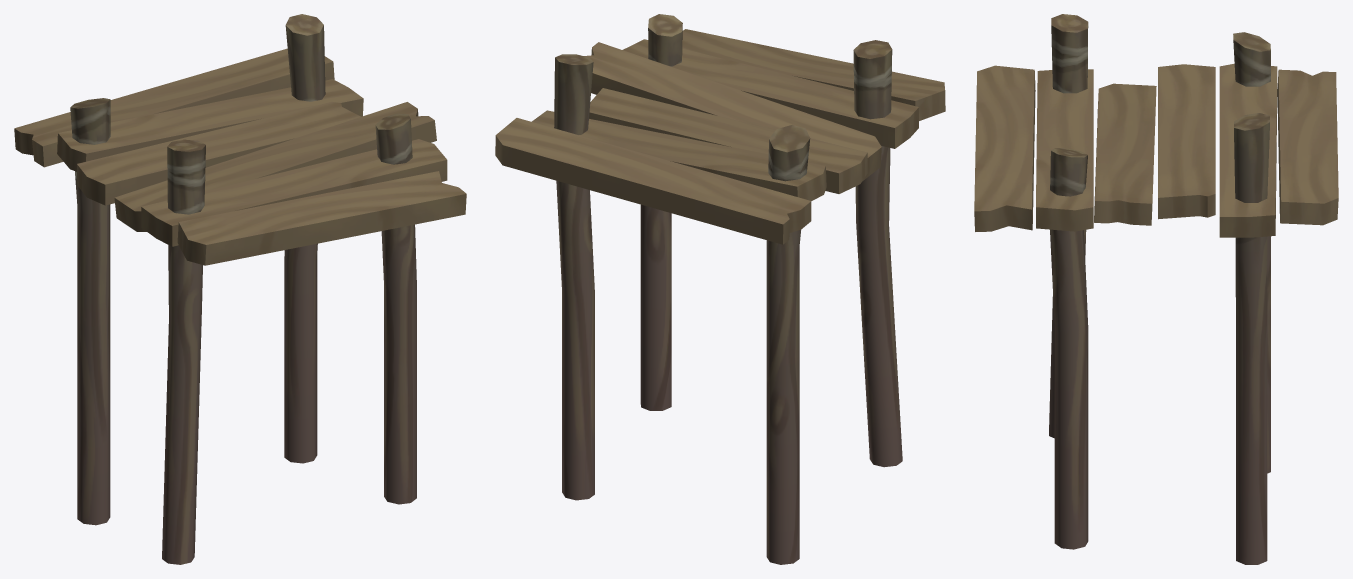
The model's file is docks4x4_mesh.fbx.
The picture shows the model from 3 angles, left to right: view 1: azimuth 30°, elevation 25°; view 2: azimuth 150°, elevation 25°; view 3: azimuth 270°, elevation 25°; orthographic projection.
Parts seen in each view (by area): view 1: docks4x4_mesh; view 2: docks4x4_mesh; view 3: docks4x4_mesh.
Boxes of the visible parts, x1,y1,x2,y2 form: docks4x4_mesh: (14,14,466,564); docks4x4_mesh: (495,14,945,564); docks4x4_mesh: (974,14,1338,564).
Size of the model in its own units: 3.55 by 4.93 by 3.58.
